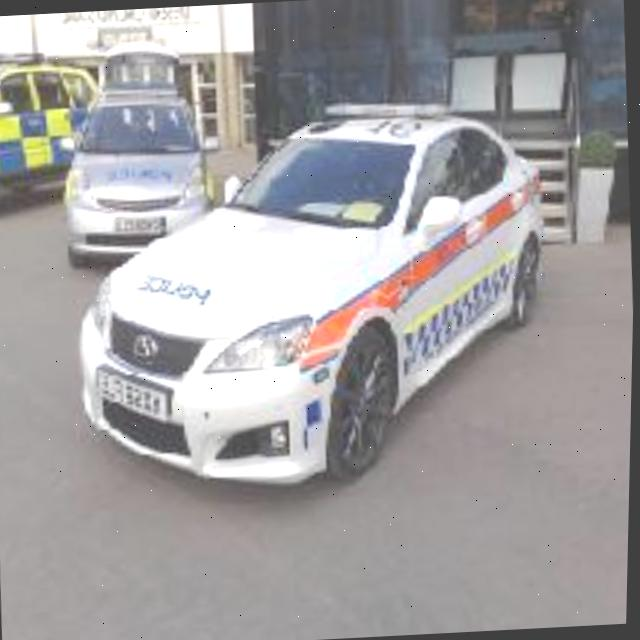emergency: (75, 74, 608, 503)
